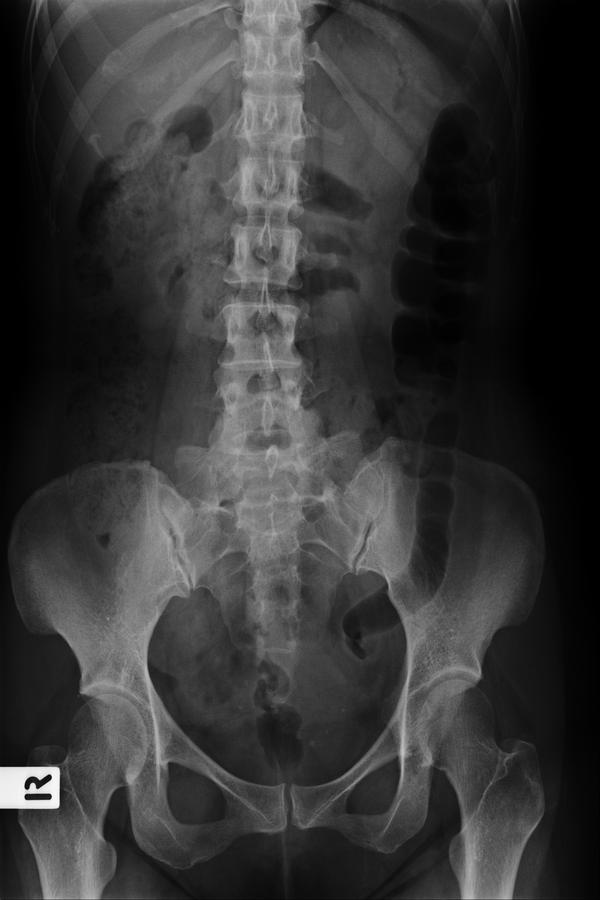lumbar scoliosis: (208, 129, 321, 506)
